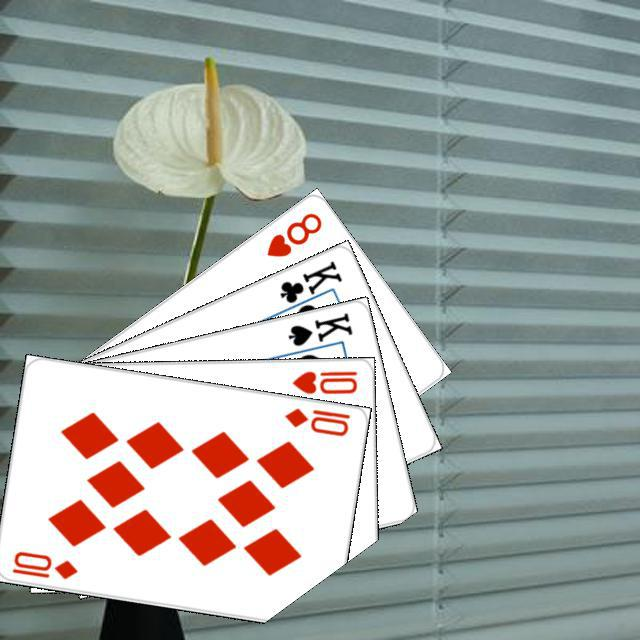10d: (280, 403, 352, 438), (7, 546, 79, 581)
10h: (287, 366, 359, 396)
8h: (261, 207, 324, 259)
Kc: (274, 255, 344, 315)
Ks: (283, 308, 355, 348)
